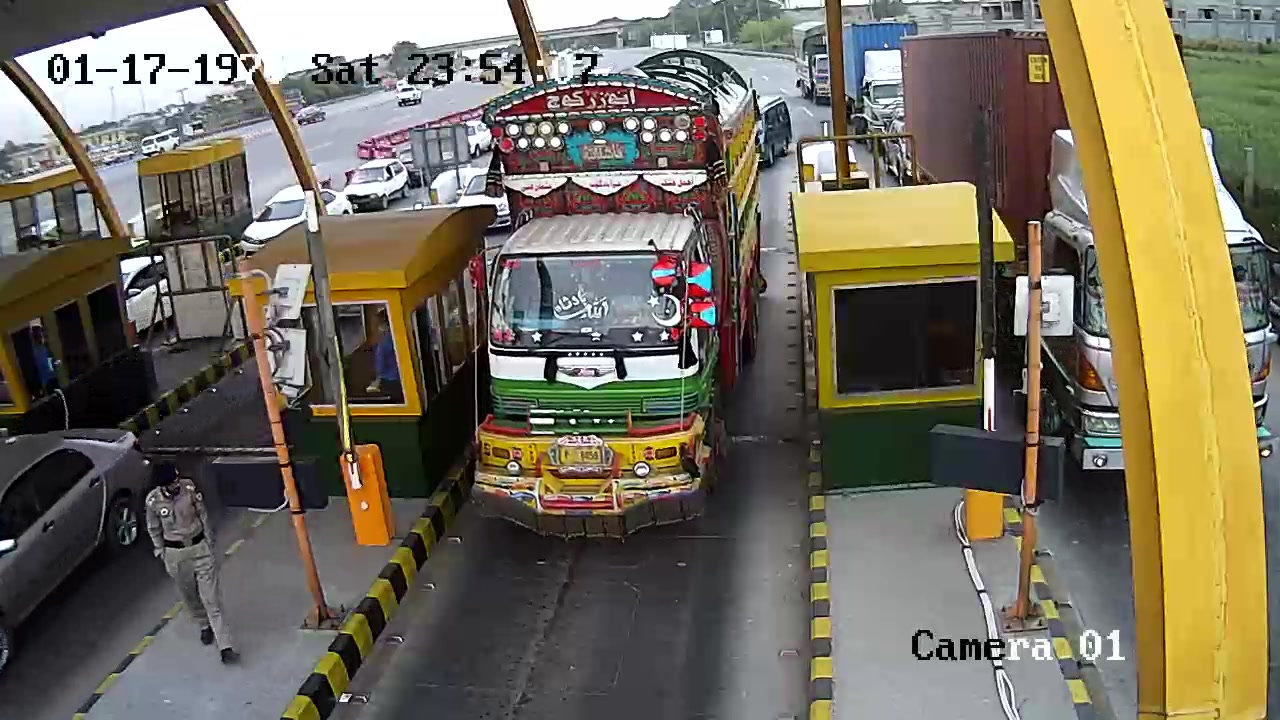F5: (465, 43, 786, 542)
